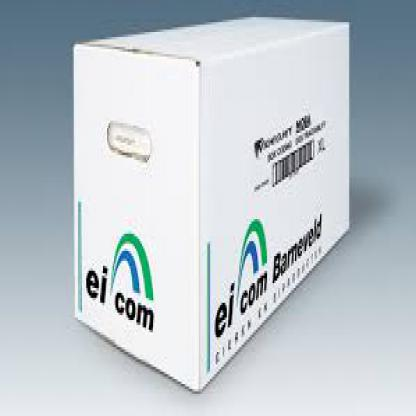CARDBOARD: (69, 15, 348, 391)
